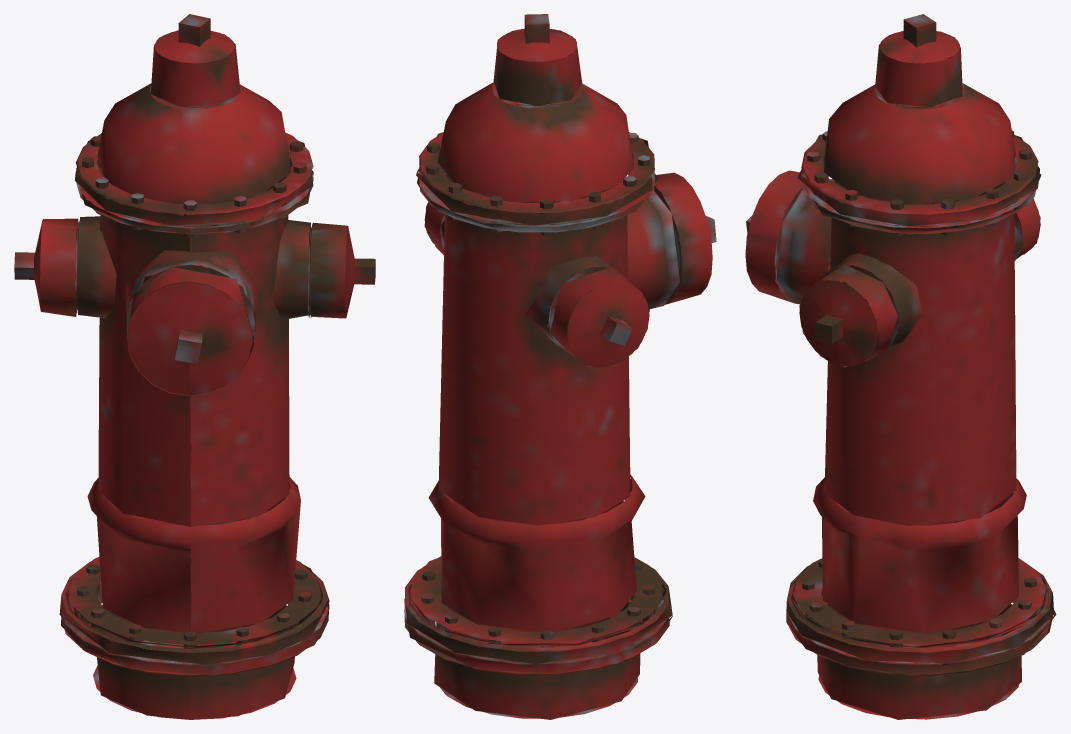
The model's file is tj_hydrant.fbx.
3 renders of one model, left to right at view 1: azimuth 30°, elevation 25°; view 2: azimuth 150°, elevation 25°; view 3: azimuth 270°, elevation 25°, orthographic.
Parts seen in each view (by area): view 1: tj_hydrant_LOD0; view 2: tj_hydrant_LOD0; view 3: tj_hydrant_LOD0.
Boxes of the visible parts, x1,y1,x2,y2 form: tj_hydrant_LOD0: (14,14,375,719); tj_hydrant_LOD0: (404,14,716,719); tj_hydrant_LOD0: (745,14,1056,719).
Size of what is drawn, in the model's own units: 0.4935 by 1.13 by 0.4841.
Materials: 1 (1 with a texture image).
